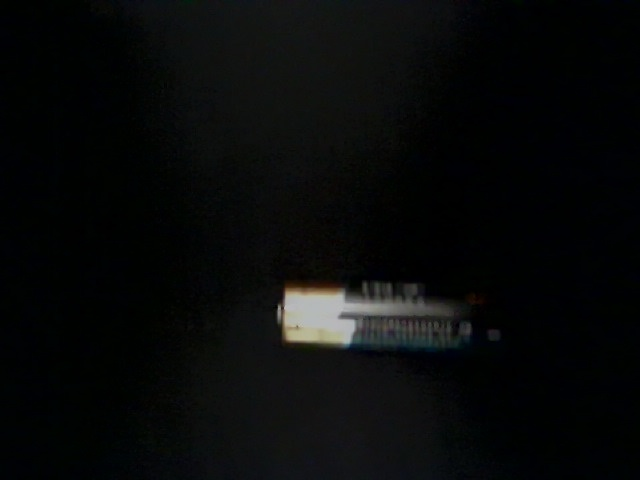QTLJ: (92, 256, 305, 426)
